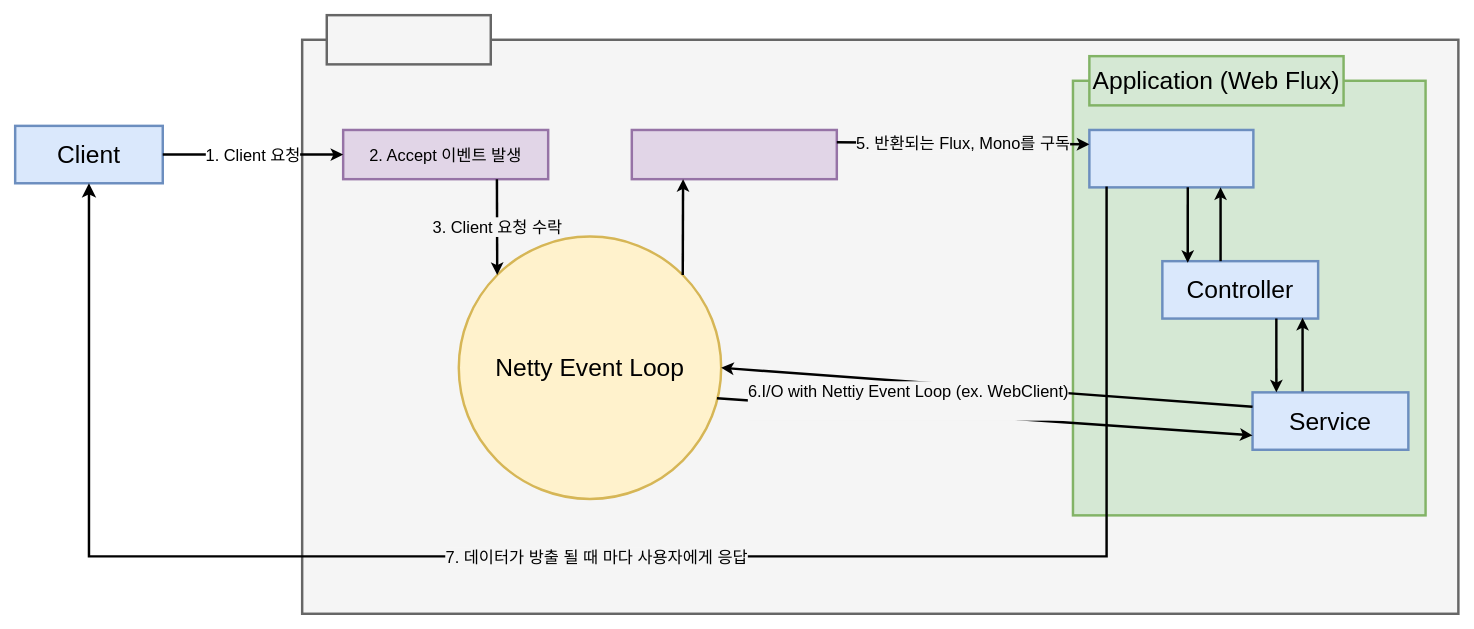
This 1474x629 diagram has some shape labels left out. The shapes that lost their labels are listed below. From the top down, each one's centre as x and y in pixels, then its label:
the point at 408,39: Netty
the point at 734,154: 4. Read 이벤트 발생
the point at 1171,158: Handler
